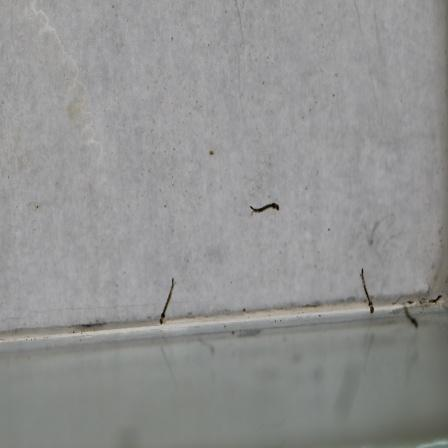Jentik-Nyamuk: (158, 273, 178, 329), (357, 267, 377, 317), (248, 196, 282, 220)
